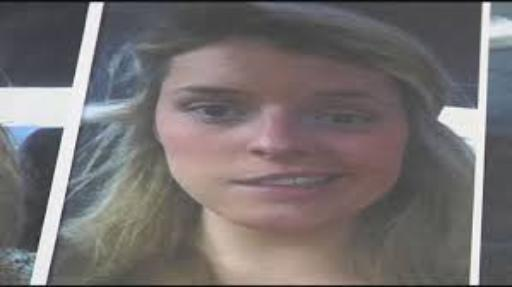left_eye: (309, 115, 373, 130)
left_lip_corner: (330, 171, 360, 182)
right_eye: (183, 105, 251, 123)
right_lip_corner: (232, 173, 260, 192)
